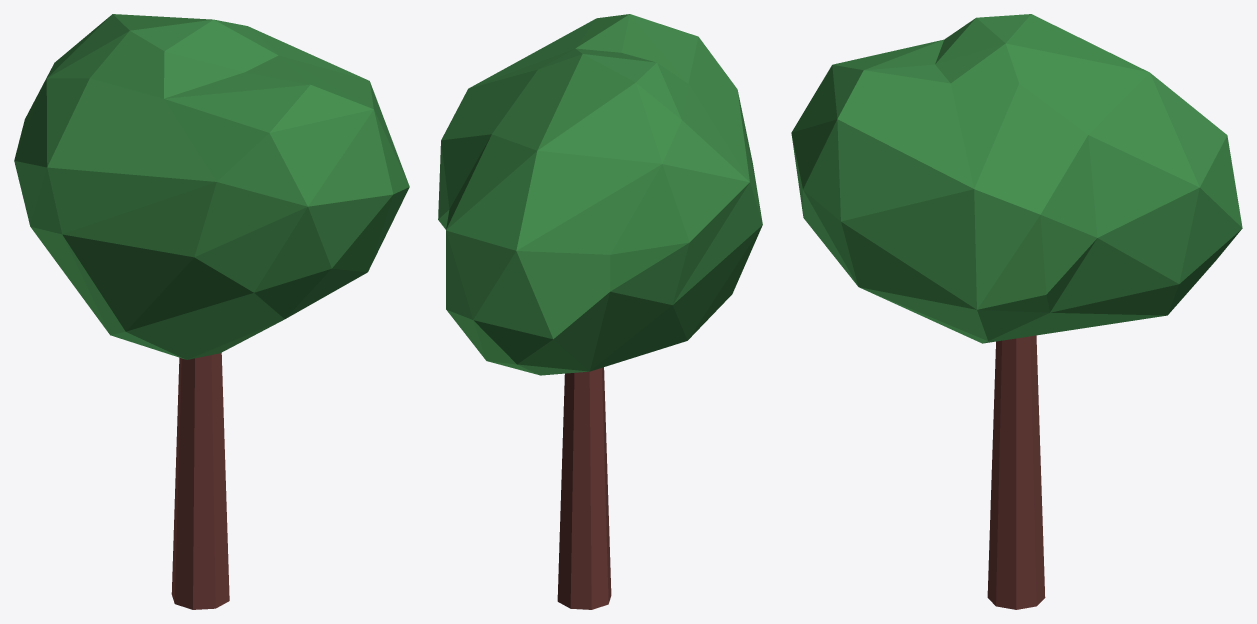
File: DeciduousTree0.fbx
3 renders of one model, left to right at view 1: azimuth 30°, elevation 25°; view 2: azimuth 150°, elevation 25°; view 3: azimuth 270°, elevation 25°, orthographic. The views are drawn at different scales.
Visible parts, largest first — view 1: DeciduousTree0; view 2: DeciduousTree0; view 3: DeciduousTree0.
Boxes of the visible parts, left/top/right/bottom form: DeciduousTree0: left=14, top=14, right=409, bottom=609; DeciduousTree0: left=438, top=14, right=762, bottom=609; DeciduousTree0: left=791, top=14, right=1242, bottom=609.
Bounding box in the file's own units: 383 × 641 × 470.
